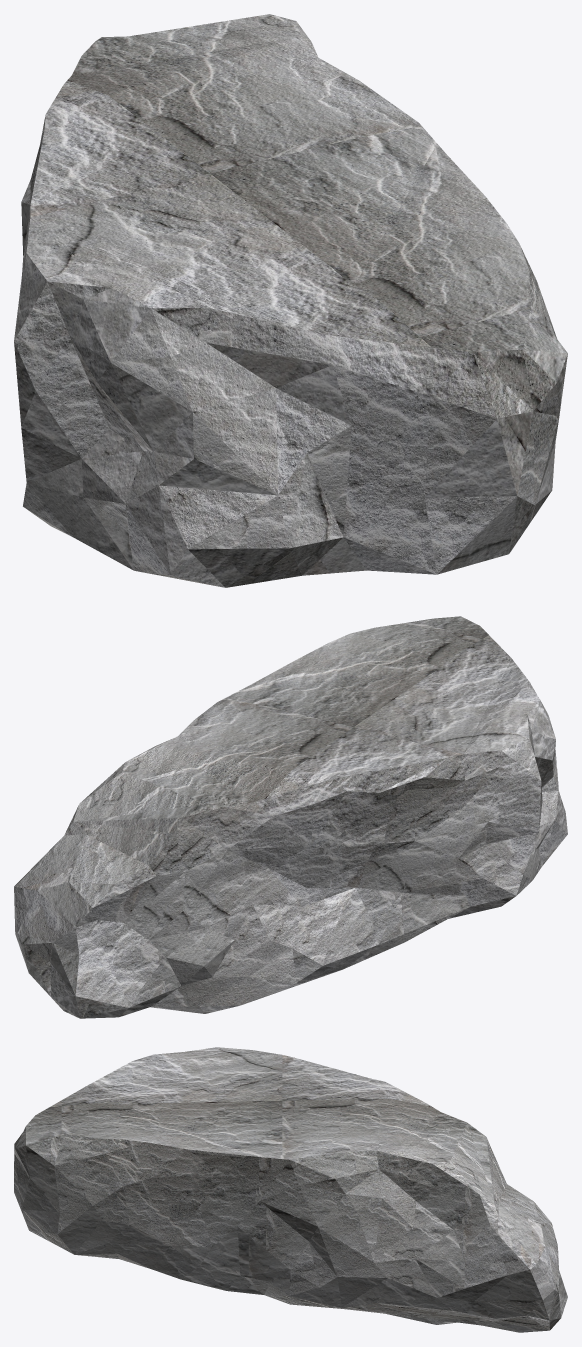
3 renders of one model, top to bottom at view 1: azimuth 30°, elevation 25°; view 2: azimuth 150°, elevation 25°; view 3: azimuth 270°, elevation 25°, orthographic. The views are drawn at different scales.
Visible parts, largest first — view 1: skp3CE; view 2: skp3CE; view 3: skp3CE.
Boxes of the visible parts, x1=… form: skp3CE: x1=14, y1=14, x2=567, y2=587; skp3CE: x1=14, y1=616, x2=567, y2=1018; skp3CE: x1=14, y1=1047, x2=567, y2=1332.
Bounding box in the file's own units: 1853 × 1186 × 2966.
